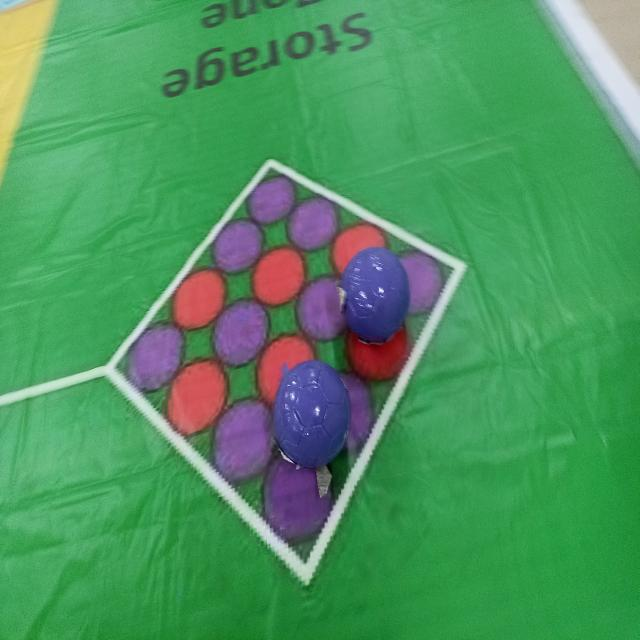purple_ball: (262, 340, 353, 470), (333, 229, 418, 351)
